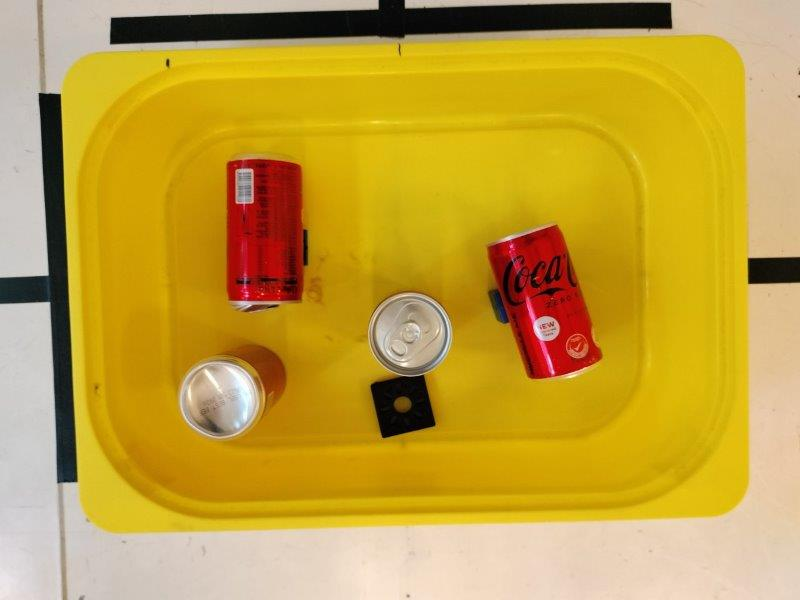Coke: (485, 223, 606, 380), (228, 155, 303, 307), (179, 343, 287, 441), (369, 291, 451, 375)
